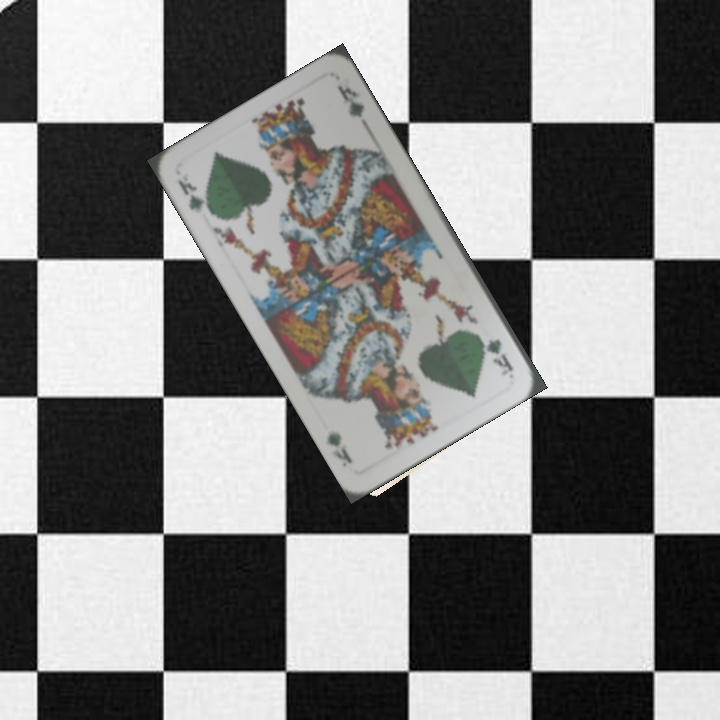GK: (173, 175, 218, 218), (483, 334, 516, 374)
